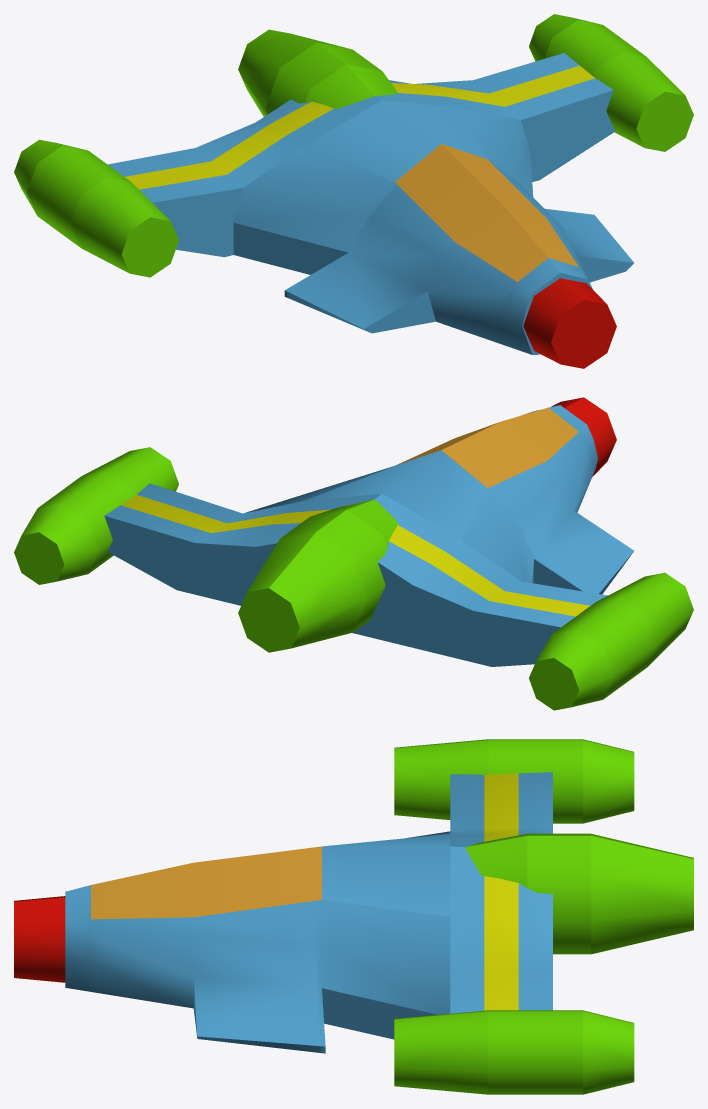
The model's file is Ship.fbx.
3 views of the same model, one above another, from view 1: azimuth 30°, elevation 25°; view 2: azimuth 150°, elevation 25°; view 3: azimuth 270°, elevation 25° (orthographic). The views are drawn at different scales.
Visible parts, largest first — view 1: Cube; view 2: Cube; view 3: Cube.
Boxes of the visible parts, x1,y1,x2,y2 form: Cube: [14, 14, 693, 368]; Cube: [14, 397, 693, 710]; Cube: [14, 739, 693, 1094].
Bounding box in the file's own units: 570 × 129 × 530.
